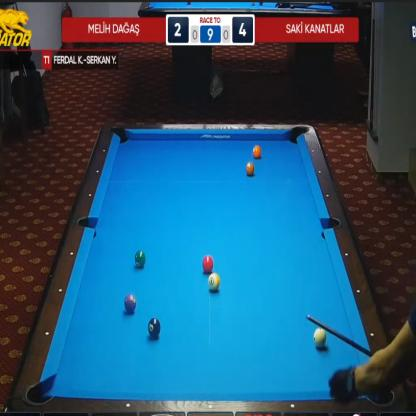Ball: (148, 317, 161, 339), (313, 328, 326, 348), (124, 293, 136, 313), (134, 249, 146, 268), (208, 273, 220, 291), (202, 256, 214, 272), (252, 145, 261, 159), (245, 162, 254, 176)
